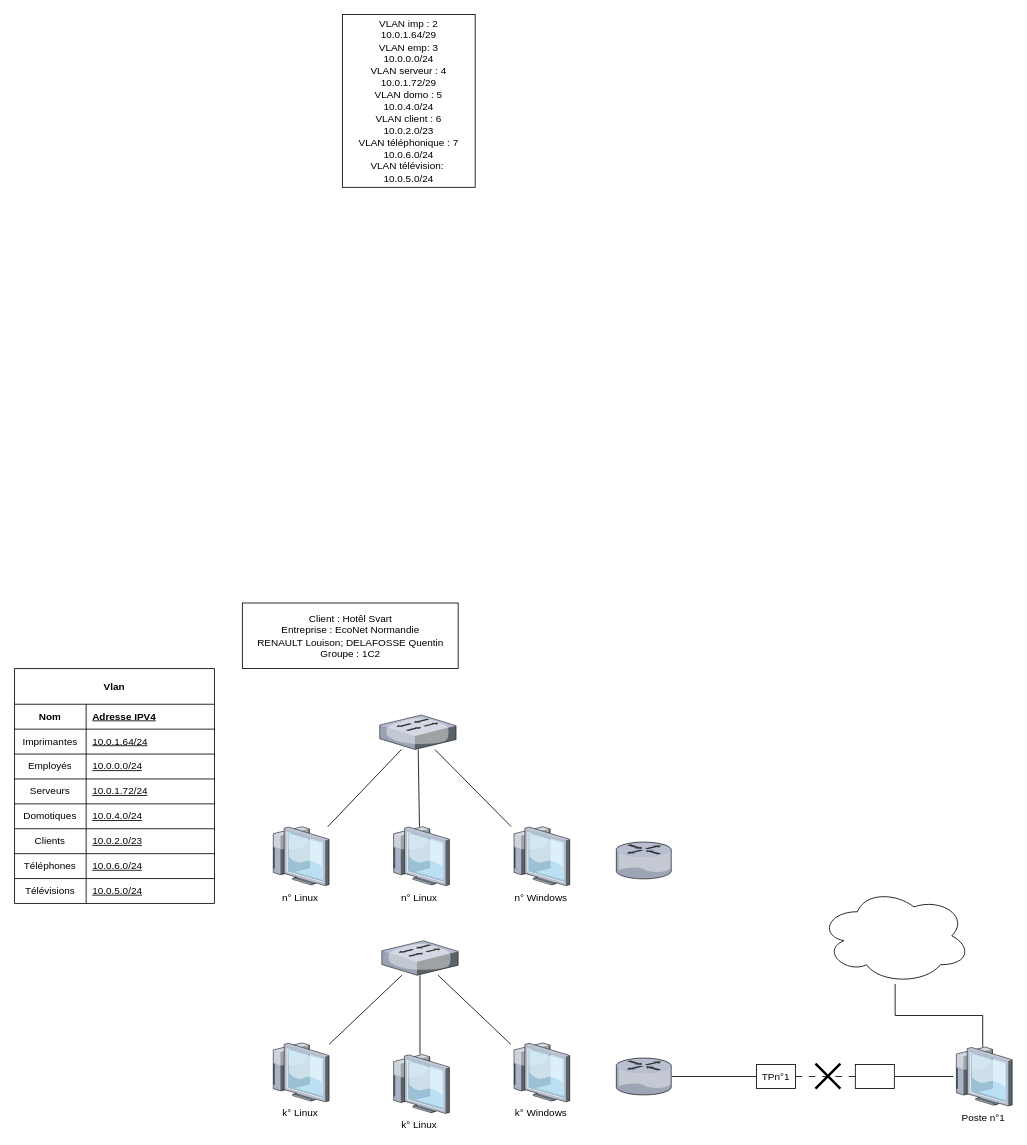
Image size: 1027x1145. Some labels were removed from this diagram. Here are the shapes that lost their labels. From the top down, the centre of each, then its label:
the point at 417,732: ARUBA 24 port
the point at 643,860: Cisco 2800
the point at 895,935: Internet
the point at 419,957: CISCO 24 port
the point at 643,1076: Cisco 1700
the point at 874,1076: TP1°1
